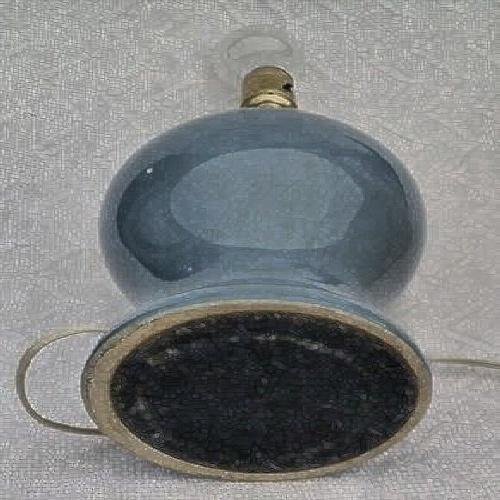lamp: (74, 90, 433, 470)
